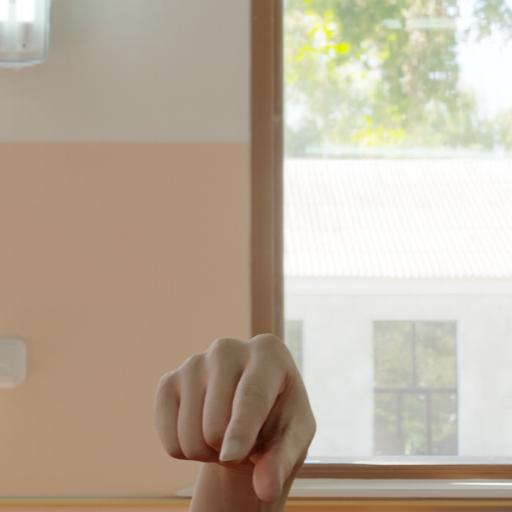Q: (138, 329, 326, 505)
